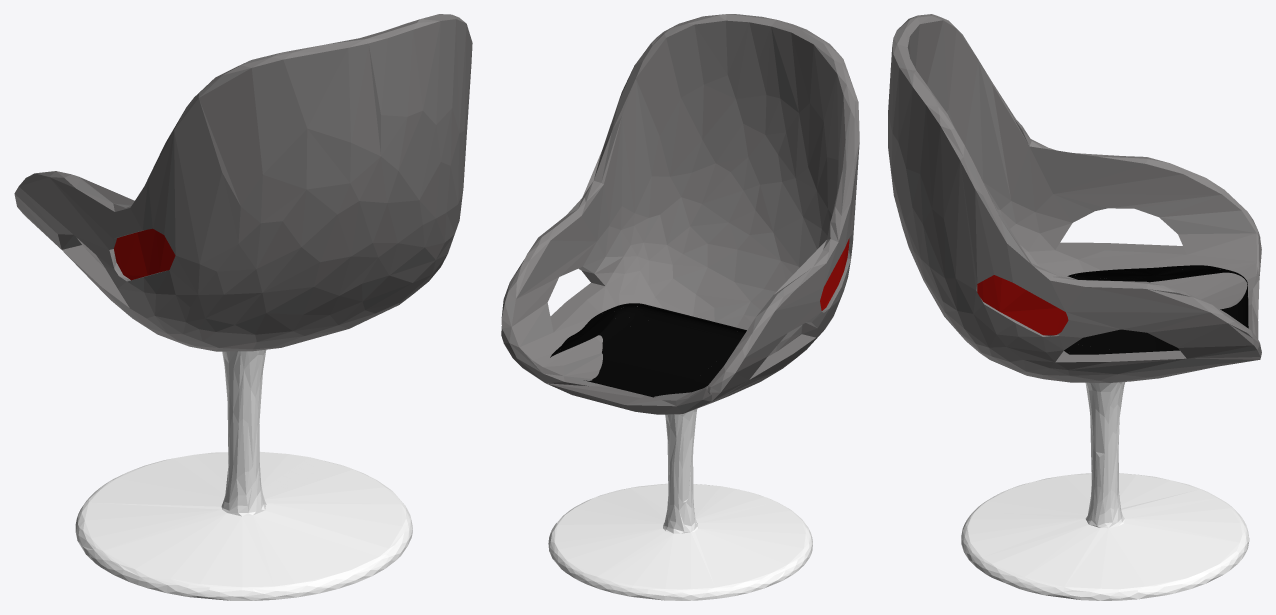
Rendered from chair_b.glb.
3 renders of one model, left to right at view 1: azimuth 30°, elevation 25°; view 2: azimuth 150°, elevation 25°; view 3: azimuth 270°, elevation 25°, orthographic. The views are drawn at different scales.
Visible parts, largest first — view 1: Cubo_0, Cilindro_1; view 2: Cubo_0, Cilindro_1, Cilindro.001_2; view 3: Cubo_0, Cilindro_1, Cilindro.001_2.
Part boxes in pixels (left/top/right/bottom): Cubo_0: left=14, top=14, right=472, bottom=351; Cilindro_1: left=75, top=349, right=412, bottom=600; Cubo_0: left=501, top=14, right=859, bottom=414; Cilindro_1: left=548, top=409, right=812, bottom=600; Cilindro.001_2: left=550, top=303, right=746, bottom=397; Cubo_0: left=888, top=14, right=1261, bottom=382; Cilindro_1: left=961, top=382, right=1249, bottom=600; Cilindro.001_2: left=1064, top=265, right=1248, bottom=354.
Bounding box in the file's own units: 6.77 × 11.89 × 8.13.
